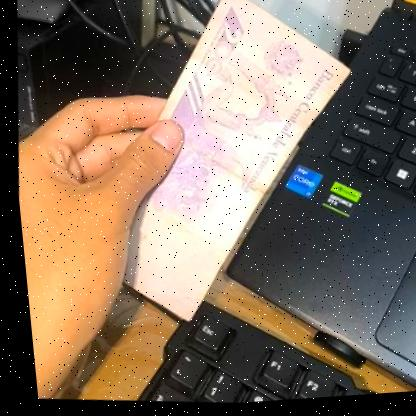ten-back-vef: (99, 0, 377, 343)
